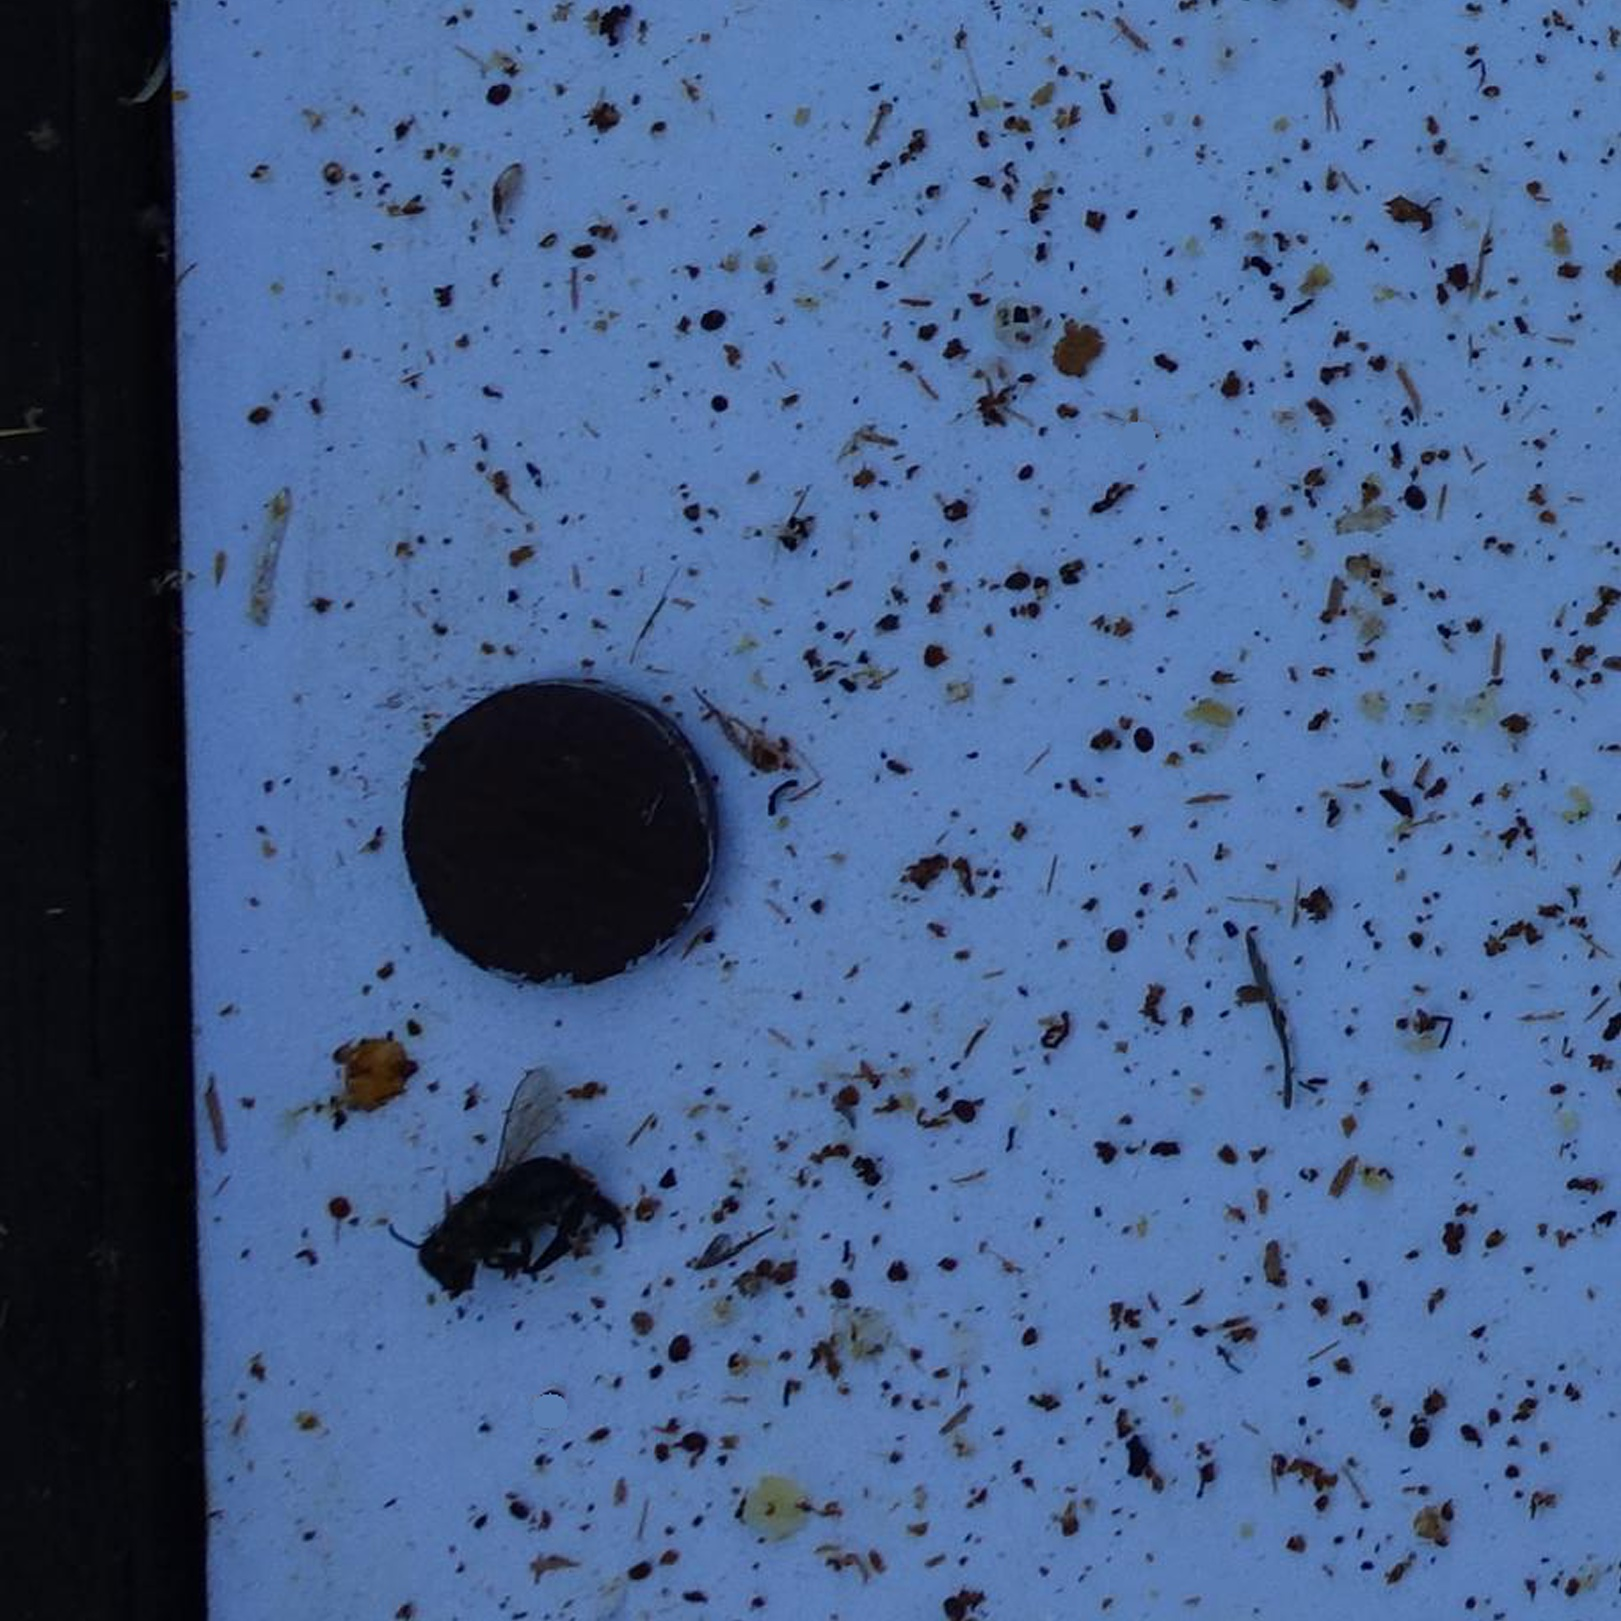Varroa: (664, 1332, 696, 1369), (1401, 481, 1432, 512), (1130, 718, 1159, 750), (698, 304, 727, 335), (1404, 1422, 1434, 1453), (1003, 569, 1033, 600), (1101, 922, 1130, 954), (482, 85, 512, 114), (949, 1098, 974, 1124)
